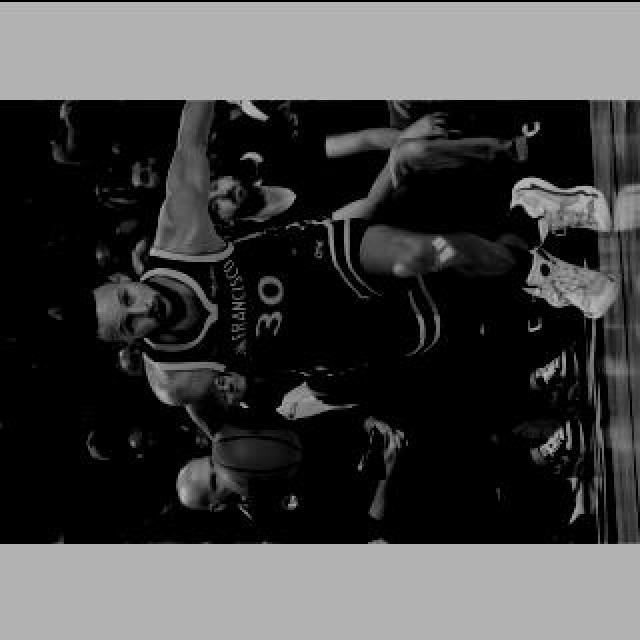shoe: (517, 247, 617, 317), (509, 176, 613, 240), (536, 412, 588, 478), (533, 340, 581, 404)
